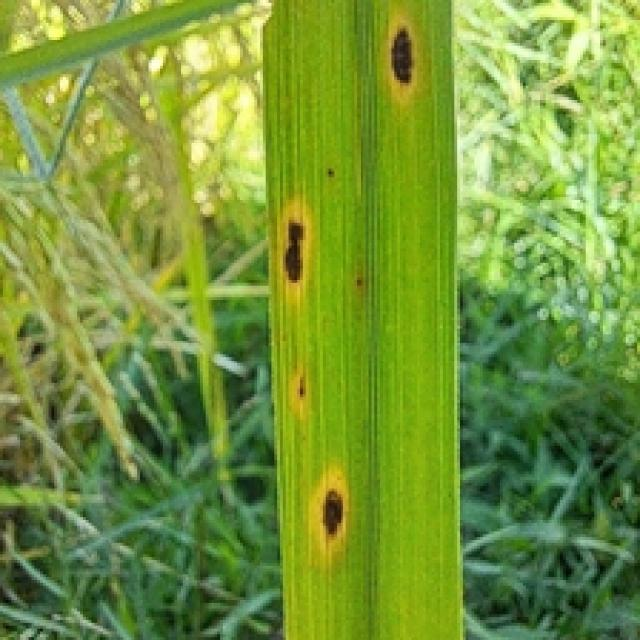Rice___Rice_Blast: (262, 0, 461, 637)
